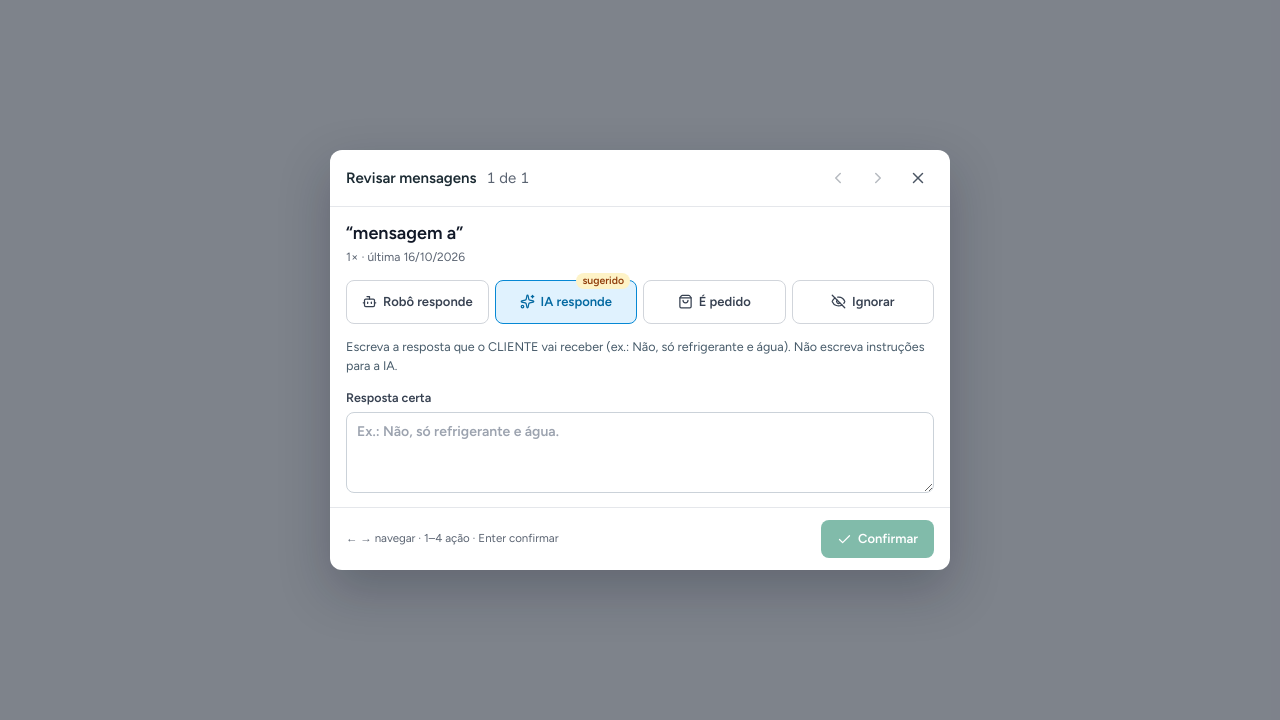
it: modal "Revisar mensagens" › IA responde: bloqueia o Confirmar quando a resposta parece instrução para a IA
Type "Diga que o cliente precisa pedir pelo link" into the text box with test id "revisar-resposta". click: (640, 452)
box: [346,412,934,493]
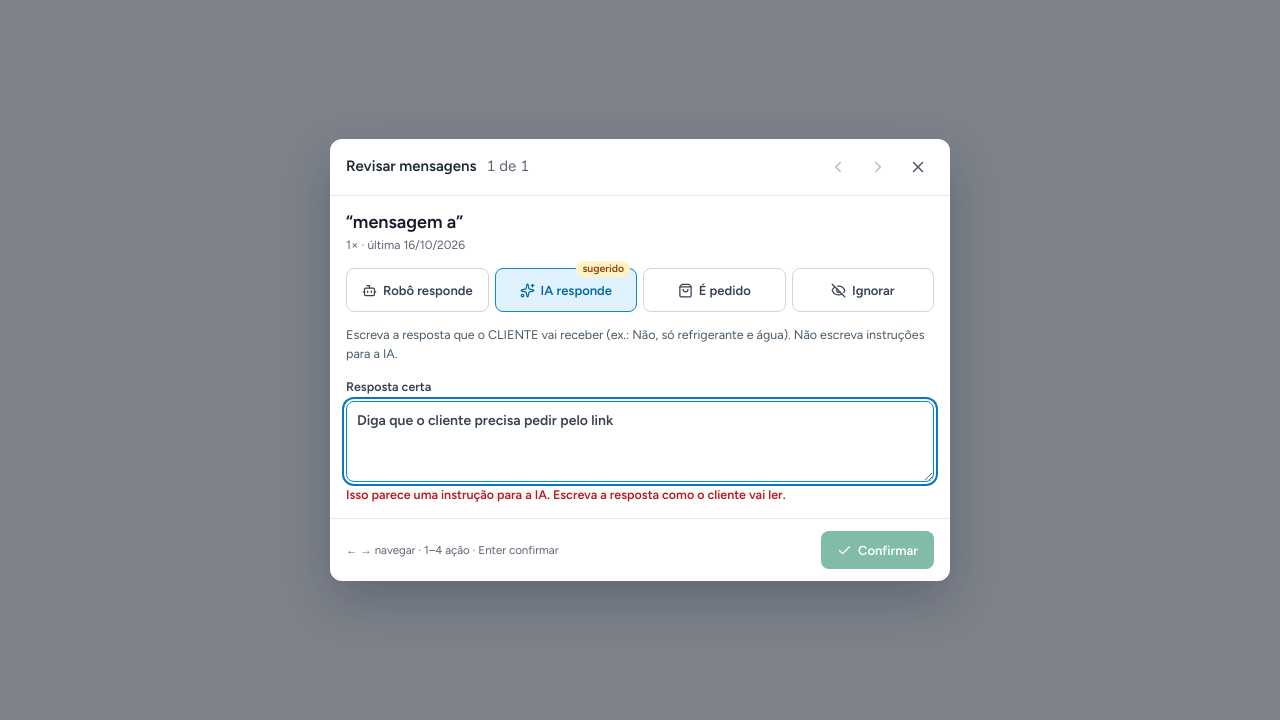
Expected: the button with test id "revisar-confirmar" is disabled, [821,531,934,569]
Expected: the text with test id "revisar-instrucao" is shown, [346,487,786,502]
Clear the text box with test id "revisar-resposta". click: (640, 441)
box: [346,401,934,482]
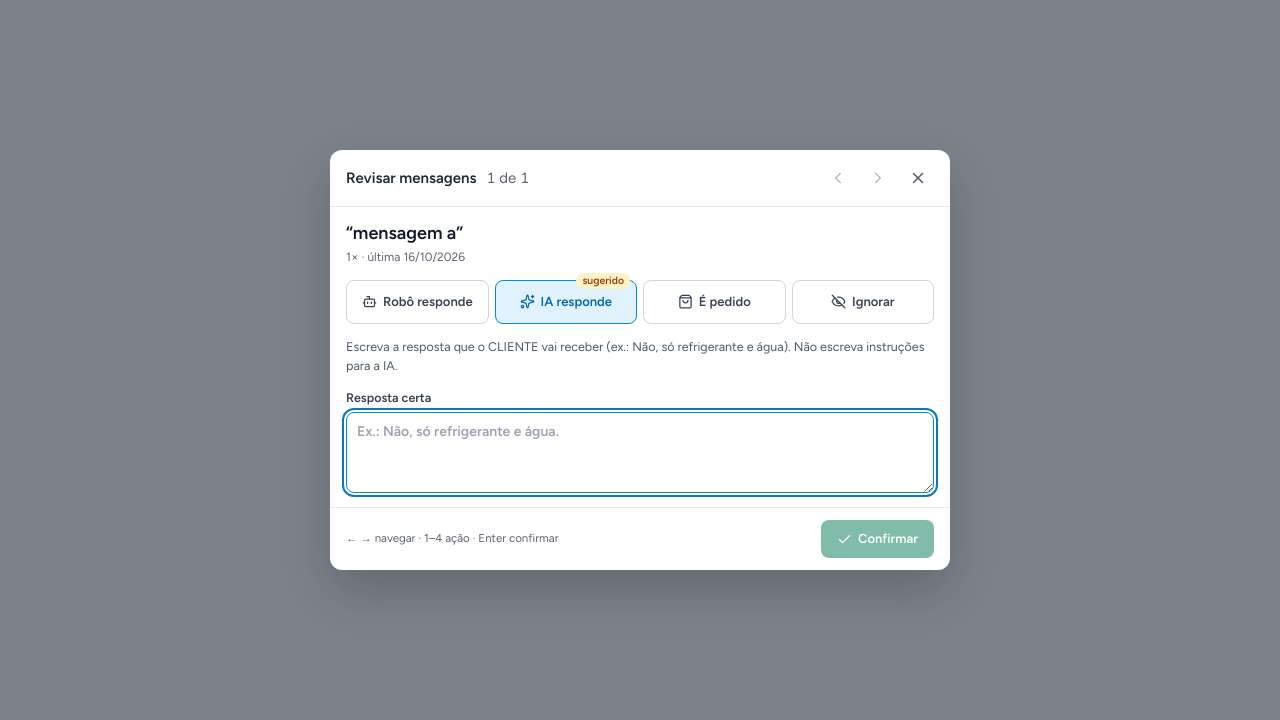
Type "Não, só refrigerante e água." into the text box with test id "revisar-resposta". click: (640, 452)
box: [346,412,934,493]
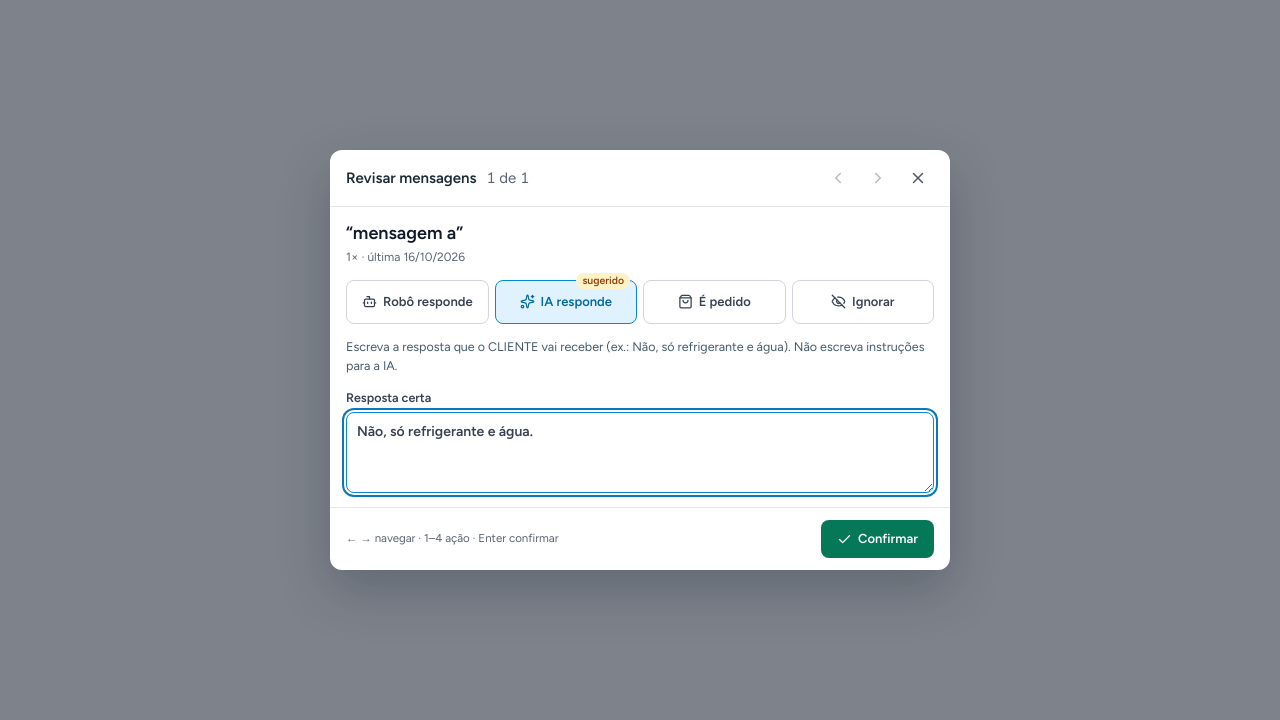
Expected: the button with test id "revisar-confirmar" is enabled, [821,520,934,558]
